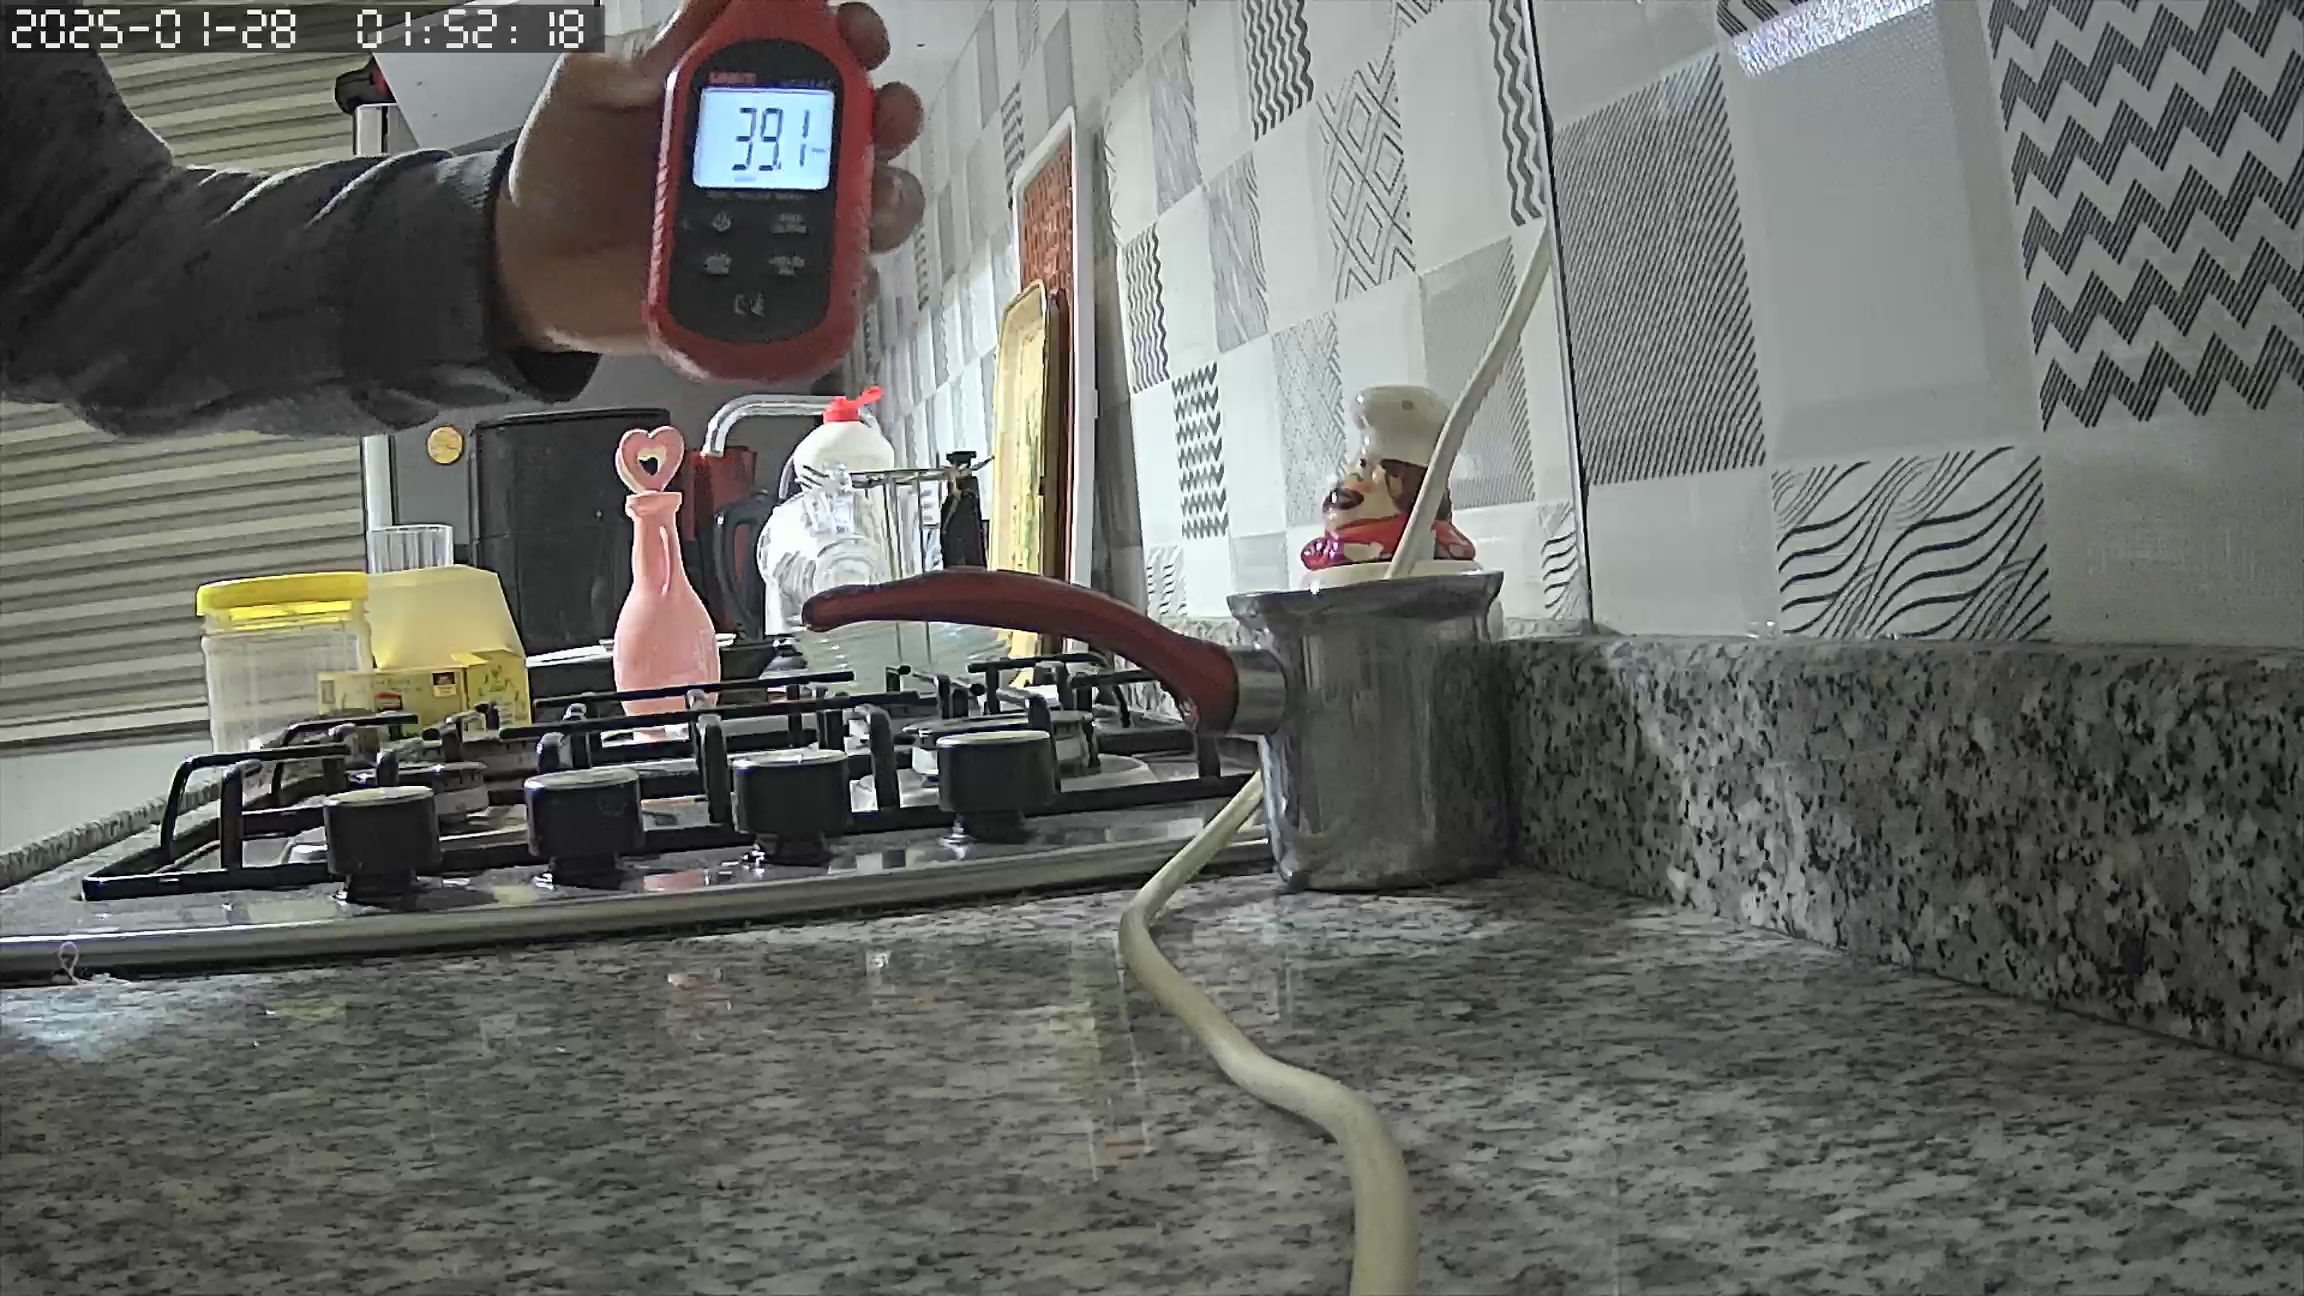screen: (690, 84, 836, 193)
